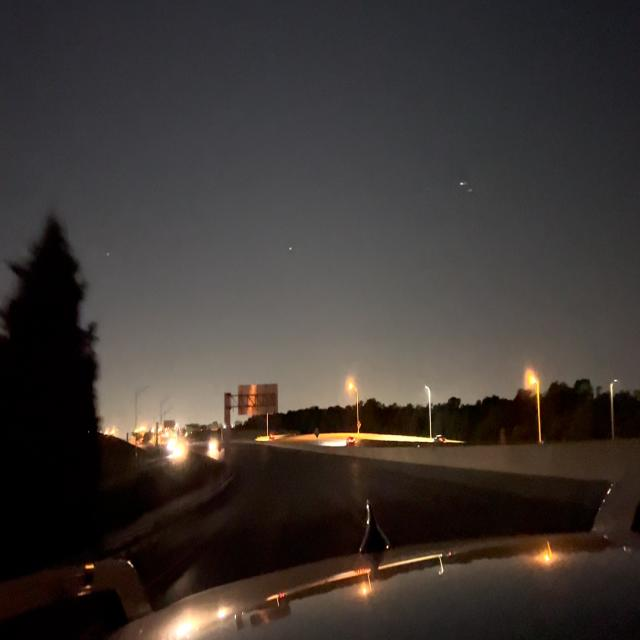back-of-sign: (238, 384, 279, 412)
